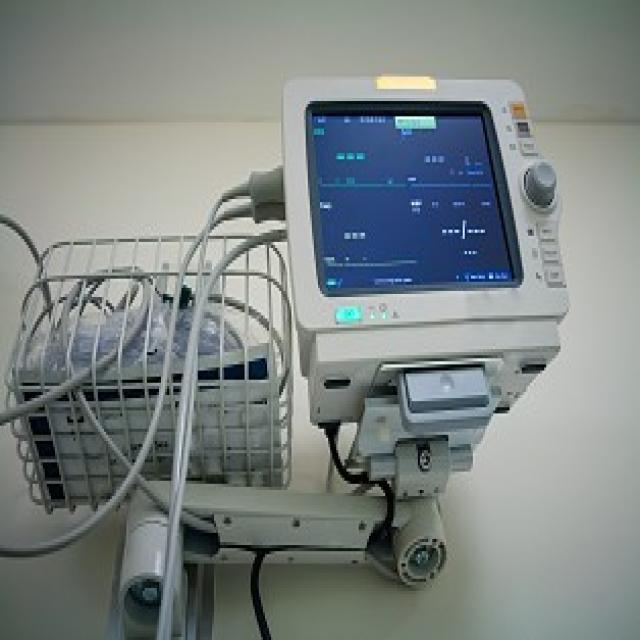Monitor: (23, 75, 577, 640)
